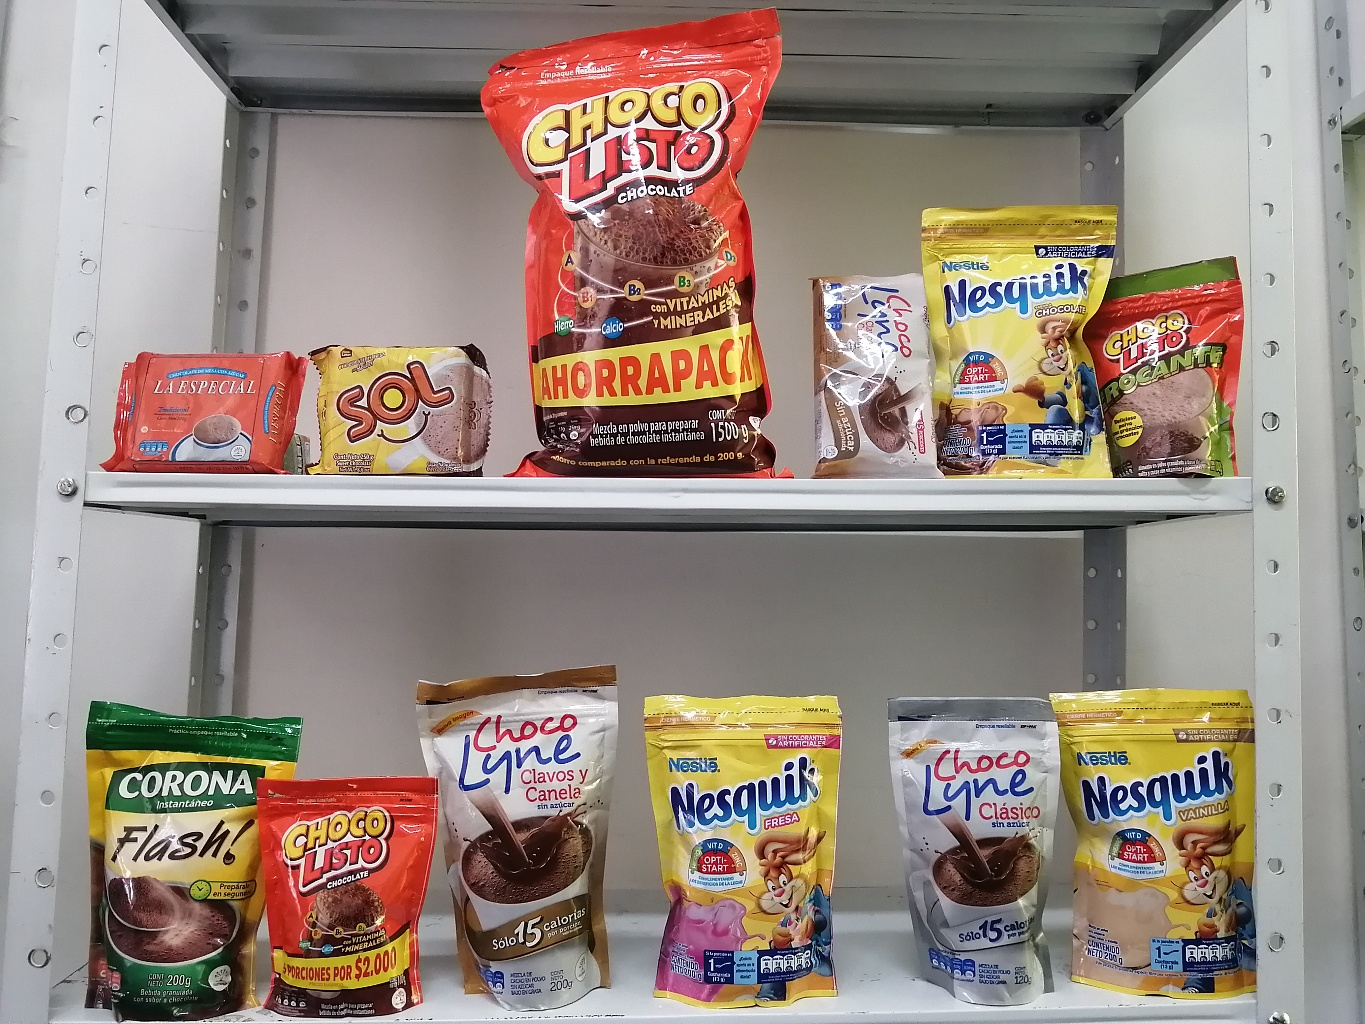COL0170102DYP10000: (1061, 248, 1263, 487)
COL0170103DYP1,500: (460, 6, 816, 492)
COL0170103DYP10000: (241, 748, 440, 1020)
COL0170303DYP20000: (900, 185, 1143, 494)
COL0170305DYP20000: (608, 664, 884, 1020)
COL0170306DYP20000: (1023, 653, 1286, 1015)
